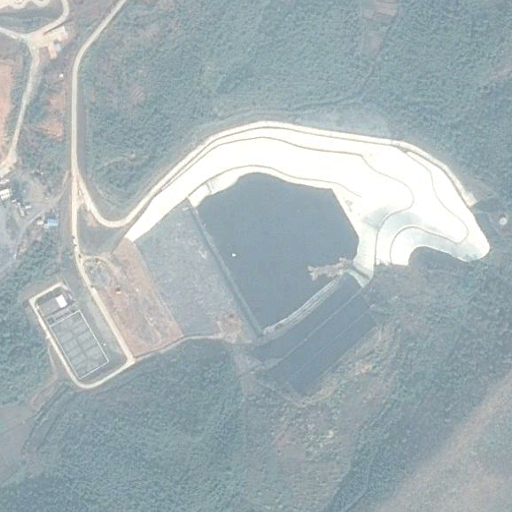lf: (124, 124, 494, 331)
